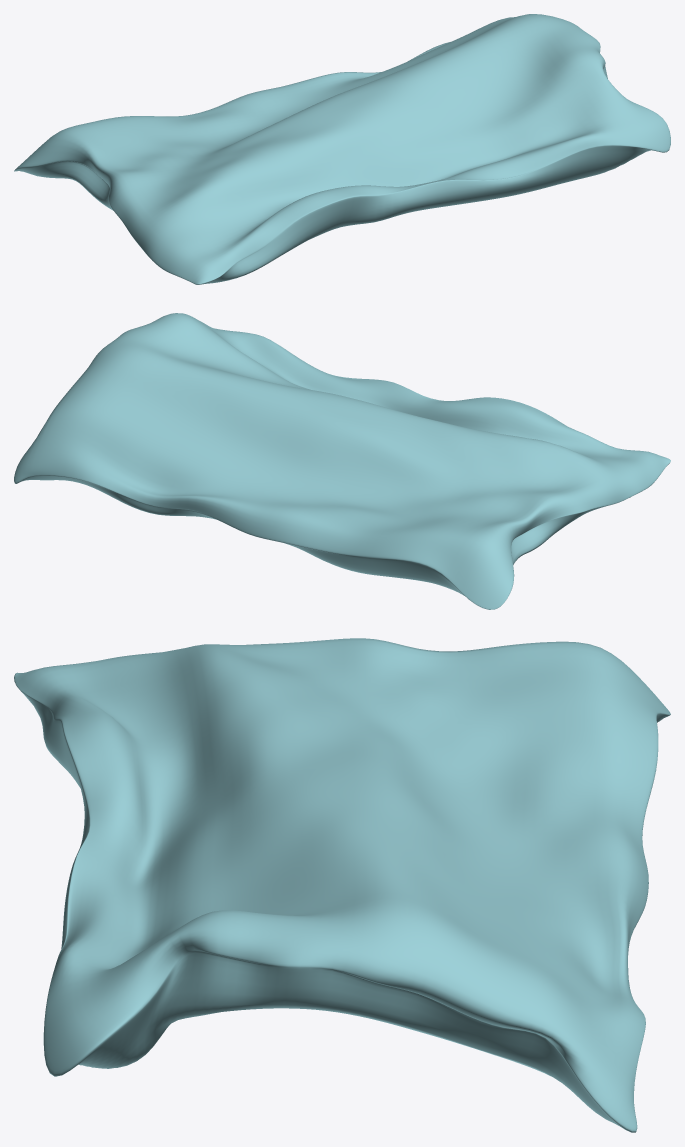
Rendered from HS_I_Bedcover1_Model_V1.FBX.
3 views of the same model, one above another, from view 1: azimuth 30°, elevation 25°; view 2: azimuth 150°, elevation 25°; view 3: azimuth 270°, elevation 25° (orthographic). The views are drawn at different scales.
Parts seen in each view (by area): view 1: Plane010; view 2: Plane010; view 3: Plane010.
Part boxes in pixels (<box>): Plane010: <box>14,14,670,284</box>; Plane010: <box>14,313,670,609</box>; Plane010: <box>14,638,670,1132</box>.
Size of the model in its own units: 167 by 34.46 by 105.
